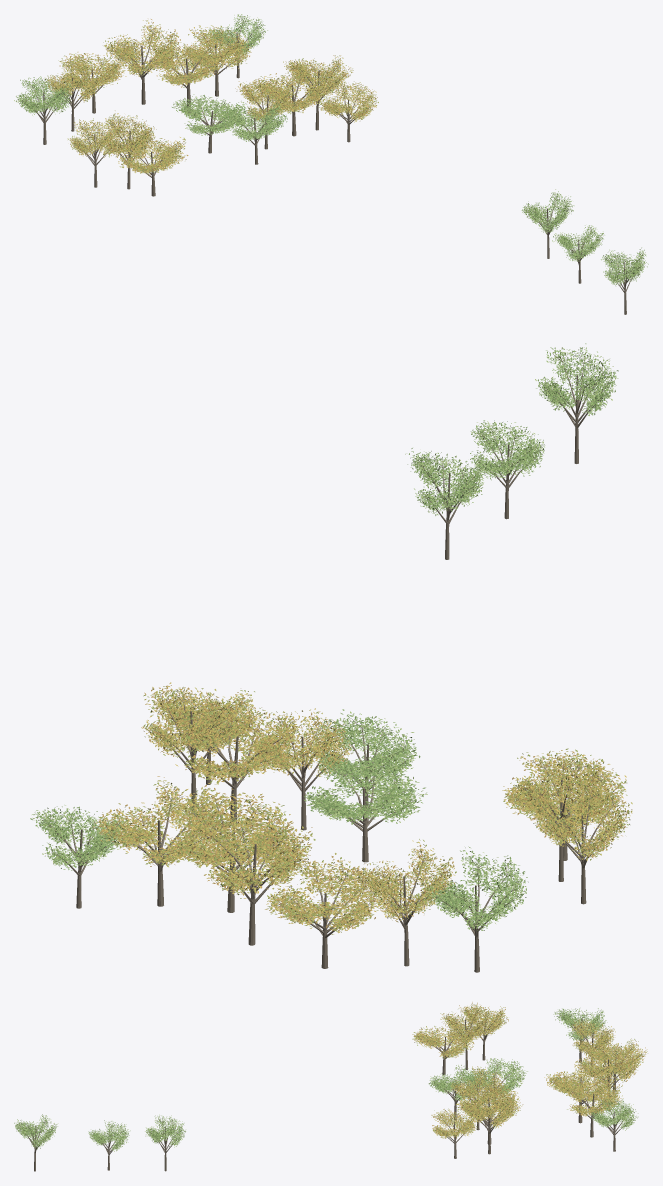
Rendered from 20261103-campus-planting-north-rear.glb.
The picture shows the model from 3 angles, top to bottom: view 1: azimuth 30°, elevation 25°; view 2: azimuth 150°, elevation 25°; view 3: azimuth 270°, elevation 25°; orthographic projection. The views are drawn at different scales.
Visible parts, largest first — view 1: Tree foliage 84 shade 1, Tree foliage 84 shade 0, Tree foliage 84 shade 3, Tree foliage 61 shade 1, Tree foliage 61 shade 3, Tree foliage 84 shade 2, Tree foliage 61 shade 0, Tree foliage 61 shade 2, Tree foliage 77 shade 3, Tree foliage 77 shade 0, Tree foliage 77 shade 2, Tree foliage 51 shade 3 (+53 smaller); view 2: Tree foliage 84 shade 0, Tree foliage 84 shade 2, Tree foliage 84 shade 3, Tree foliage 84 shade 1, Tree foliage 60 shade 2, Tree foliage 60 shade 1, Tree foliage 60 shade 3, Tree foliage 60 shade 0, Tree foliage 77 shade 2, Tree foliage 51 shade 3, Tree foliage 77 shade 3, Tree foliage 77 shade 0 (+61 smaller); view 3: Tree foliage 84 shade 2, Tree foliage 84 shade 1, Tree foliage 84 shade 3, Tree foliage 84 shade 0, Tree foliage 61 shade 2, Tree foliage 61 shade 3, Tree foliage 70 shade 0, Tree foliage 61 shade 0, Tree foliage 78 shade 2, Tree foliage 61 shade 1, Tree foliage 78 shade 0, Tree foliage 70 shade 1 (+62 smaller).
Part boxes in pixels (x1,y1,x2,y2): Tree foliage 84 shade 1: (104, 22, 180, 76); Tree foliage 84 shade 0: (105, 20, 181, 75); Tree foliage 84 shade 3: (103, 20, 178, 75); Tree foliage 61 shade 1: (149, 41, 225, 87); Tree foliage 61 shade 3: (147, 40, 230, 85); Tree foliage 84 shade 2: (106, 19, 180, 76); Tree foliage 61 shade 0: (146, 37, 232, 85); Tree foliage 61 shade 2: (147, 36, 229, 87); Tree foliage 77 shade 3: (173, 96, 246, 134); Tree foliage 77 shade 0: (174, 97, 248, 135); Tree foliage 77 shade 2: (172, 95, 245, 135); Tree foliage 51 shade 3: (250, 64, 331, 111); Tree foliage 84 shade 0: (191, 814, 312, 893); Tree foliage 84 shade 2: (196, 812, 312, 895); Tree foliage 84 shade 3: (196, 815, 315, 898); Tree foliage 84 shade 1: (192, 814, 311, 898); Tree foliage 60 shade 2: (265, 856, 381, 930); Tree foliage 60 shade 1: (265, 856, 382, 933); Tree foliage 60 shade 3: (267, 857, 387, 931); Tree foliage 60 shade 0: (267, 853, 382, 934); Tree foliage 77 shade 2: (304, 756, 425, 823); Tree foliage 51 shade 3: (175, 705, 297, 781); Tree foliage 77 shade 3: (305, 757, 427, 822); Tree foliage 77 shade 0: (304, 757, 422, 822); Tree foliage 84 shade 2: (578, 1042, 638, 1081); Tree foliage 84 shade 1: (577, 1043, 637, 1082); Tree foliage 84 shade 3: (578, 1043, 638, 1081); Tree foliage 84 shade 0: (579, 1042, 639, 1082); Tree foliage 61 shade 2: (546, 1061, 616, 1102); Tree foliage 61 shade 3: (548, 1061, 618, 1100); Tree foliage 70 shade 0: (559, 1079, 621, 1116); Tree foliage 61 shade 0: (544, 1060, 614, 1102); Tree foliage 78 shade 2: (462, 1084, 515, 1126); Tree foliage 61 shade 1: (546, 1060, 616, 1101); Tree foliage 78 shade 0: (462, 1087, 514, 1127); Tree foliage 70 shade 1: (558, 1081, 622, 1115).
Size of the model in its own units: 54.63 by 12.01 by 112.
